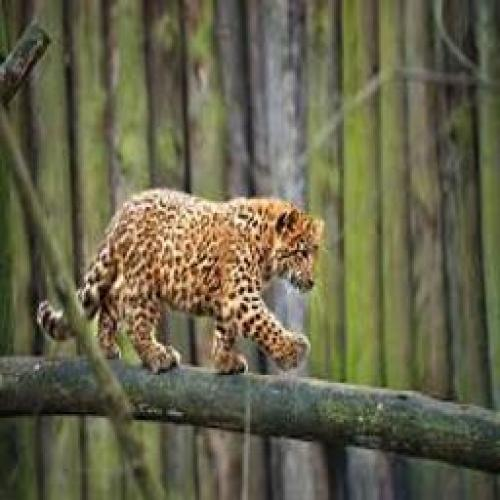amur_leopard-endangered: (37, 189, 326, 380)
